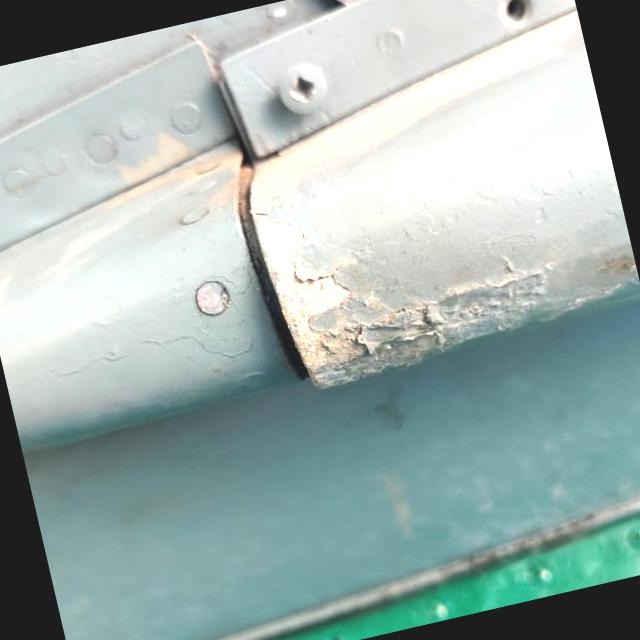Missing Fastener: (495, 0, 538, 31)
